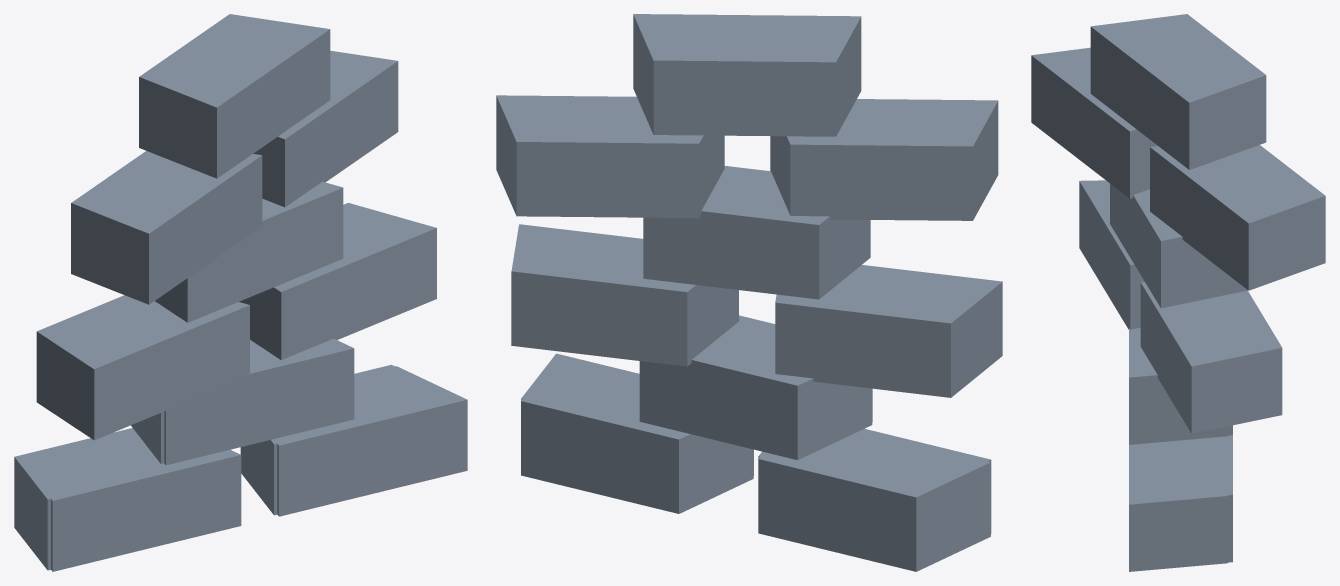
Rendered from Ingot_Titanium.fbx.
3 renders of one model, left to right at view 1: azimuth 30°, elevation 25°; view 2: azimuth 150°, elevation 25°; view 3: azimuth 270°, elevation 25°, orthographic. The views are drawn at different scales.
Visible parts, largest first — view 1: Ingot_Titanium__Stack, Ingot_Titanium; view 2: Ingot_Titanium__Stack, Ingot_Titanium; view 3: Ingot_Titanium__Stack, Ingot_Titanium.
Part boxes in pixels (left/top/right/bottom): Ingot_Titanium__Stack: left=14, top=14, right=447, bottom=570; Ingot_Titanium: left=19, top=338, right=467, bottom=571; Ingot_Titanium__Stack: left=496, top=14, right=1002, bottom=571; Ingot_Titanium: left=521, top=315, right=991, bottom=533; Ingot_Titanium__Stack: left=1031, top=14, right=1325, bottom=562; Ingot_Titanium: left=1129, top=328, right=1227, bottom=571.
Size of the model in its own units: 0.1113 by 0.1125 by 0.0714.
